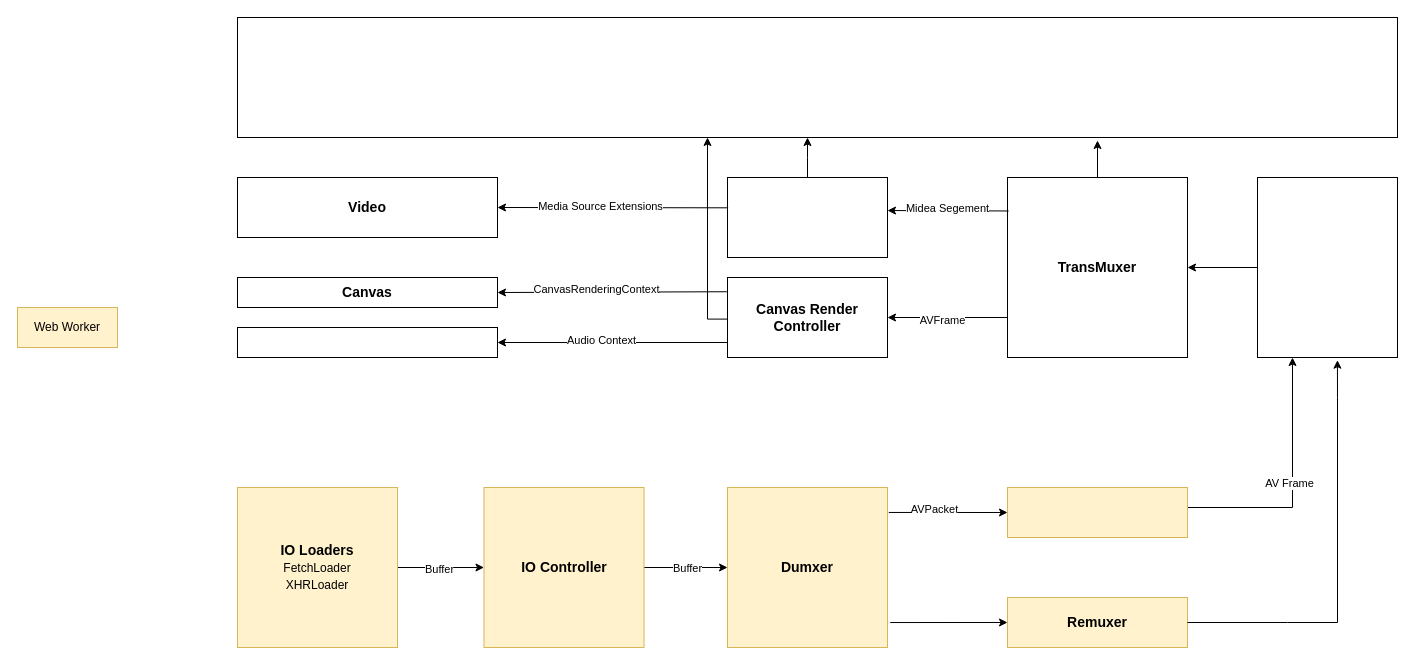
Some shapes in this 1415 by 665 pixel diagram are drawn without their labels. The shapes that lost their labels are listed below. From the top down, each one's centre as x and y in pixels, then its label:
point 817,77: MSE Player Canvas Player
point 807,217: MSE Controller
point 1327,267: Worker Manager
point 367,342: AudioBufferSourceNode
point 1097,512: Decoder
